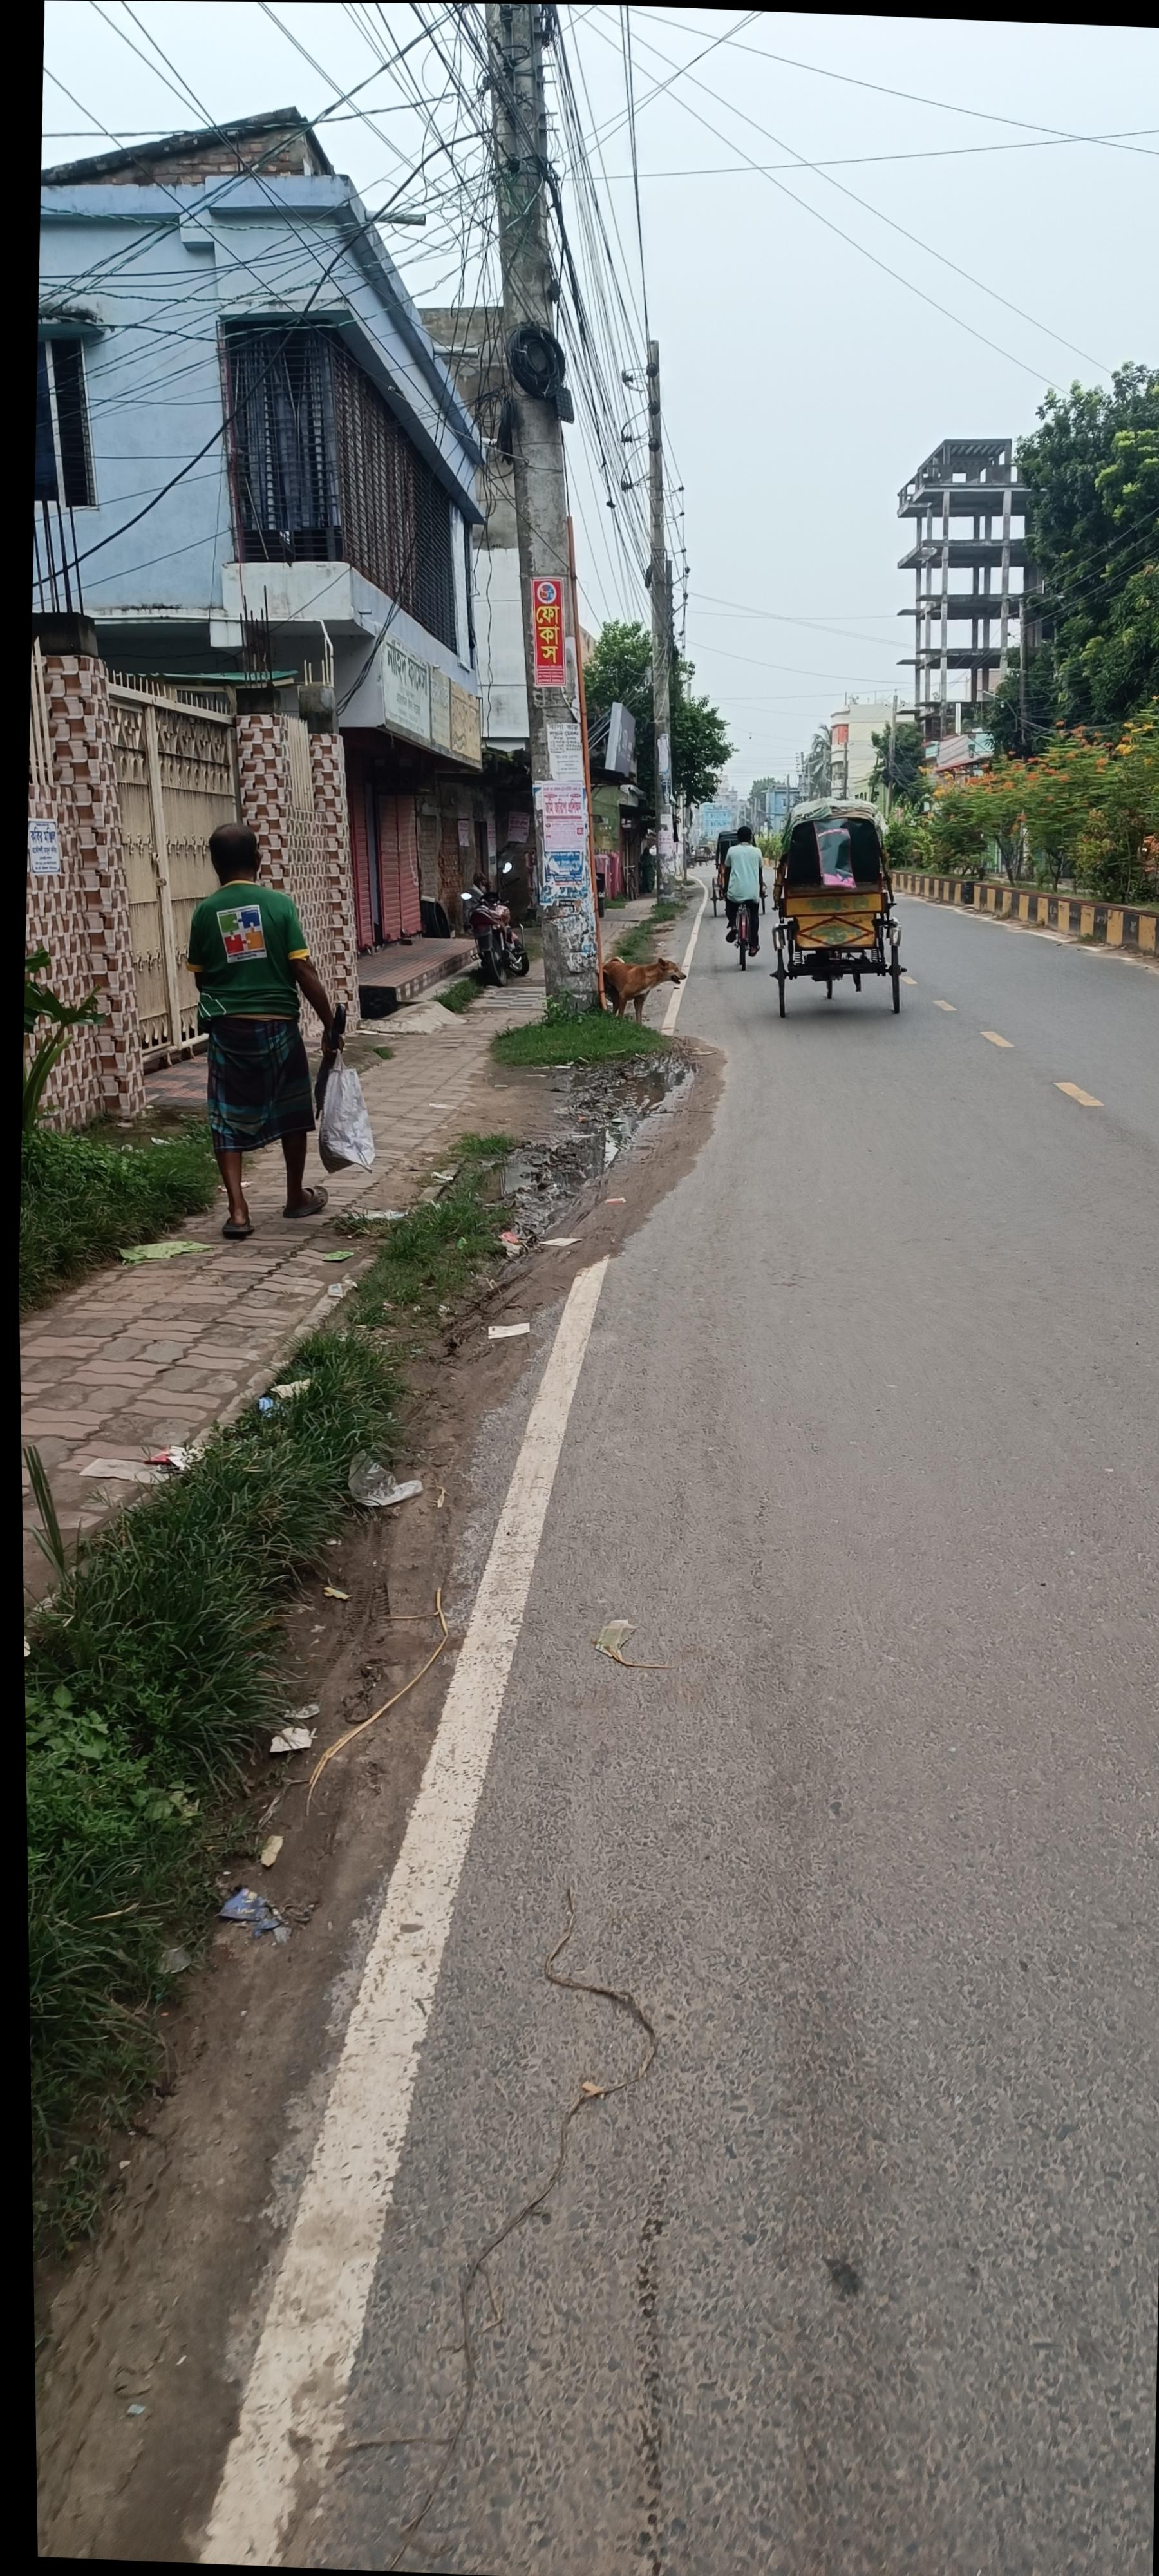Fallen-tree: (498, 858, 574, 969)
Garbage: (802, 782, 952, 1003)
Garbage-bin: (212, 801, 393, 1225), (756, 805, 811, 935)
Light-pole: (512, 240, 671, 1023)
Pothole: (117, 1098, 364, 1706)
